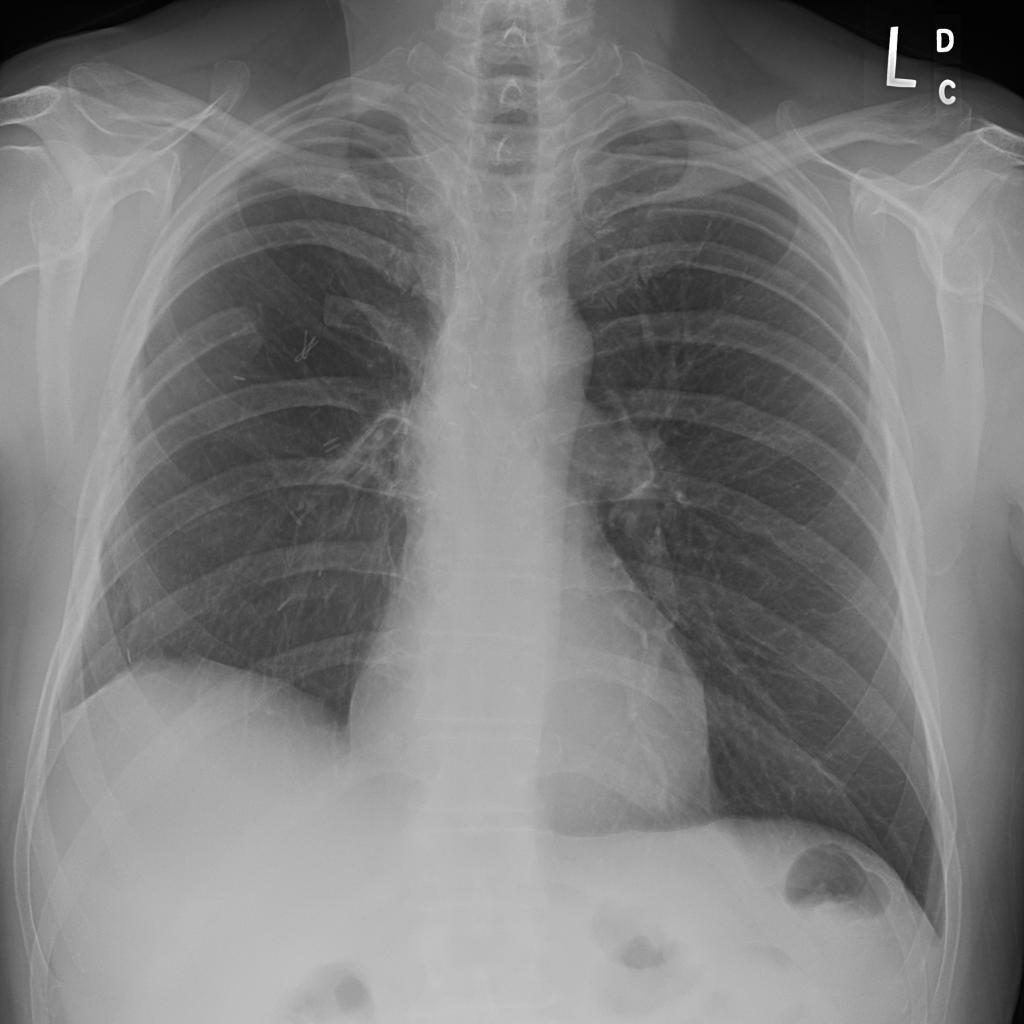Nodule: (335, 388, 378, 427)
